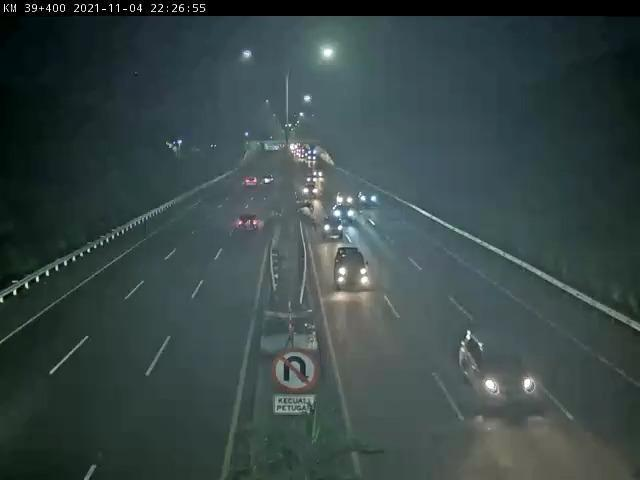car: (461, 327, 538, 412), (332, 245, 374, 294), (322, 215, 349, 243), (236, 214, 267, 236)
